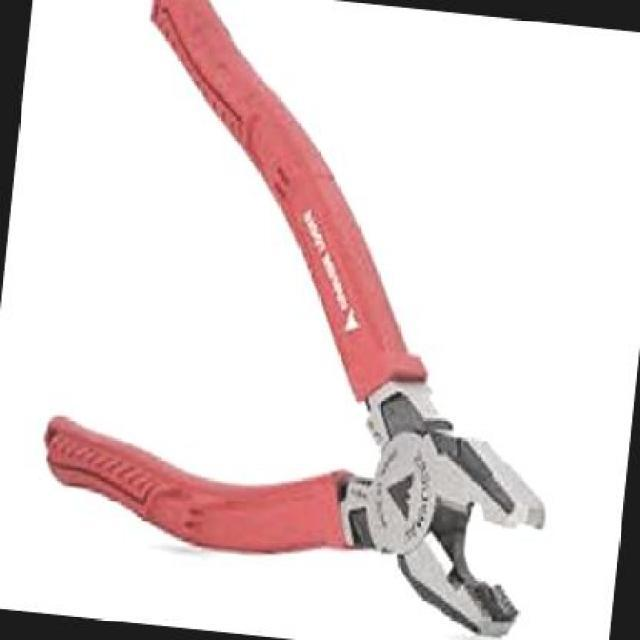pliers: (17, 0, 604, 638)
